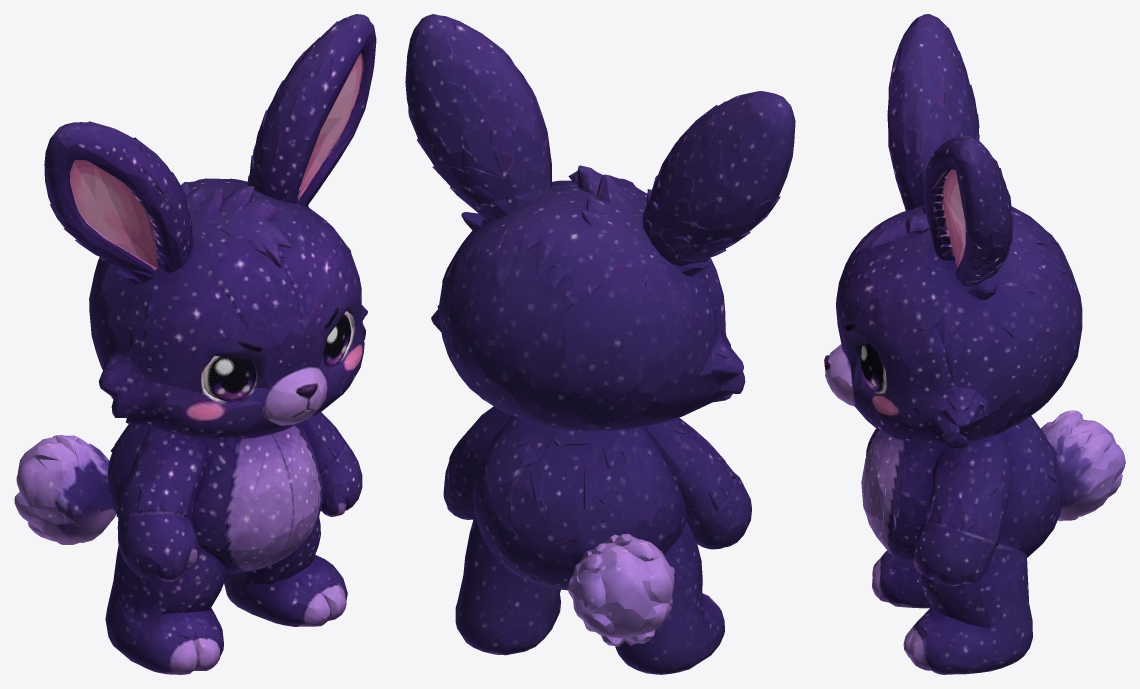
Rendered from foe_rabbit_mobile.glb.
The picture shows the model from 3 angles, left to right: view 1: azimuth 30°, elevation 25°; view 2: azimuth 150°, elevation 25°; view 3: azimuth 270°, elevation 25°; orthographic projection. The views are drawn at different scales.
Bounding box in the file's own units: 1.2 × 1.9 × 0.9391.
Materials: 1 (1 with a texture image).
